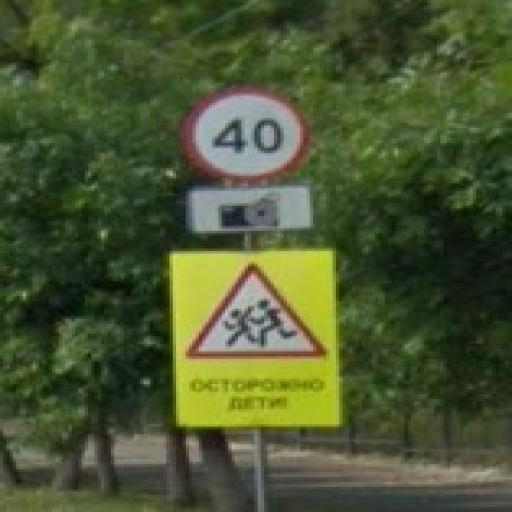traffic_sign: (184, 262, 331, 362), (184, 86, 308, 182)
